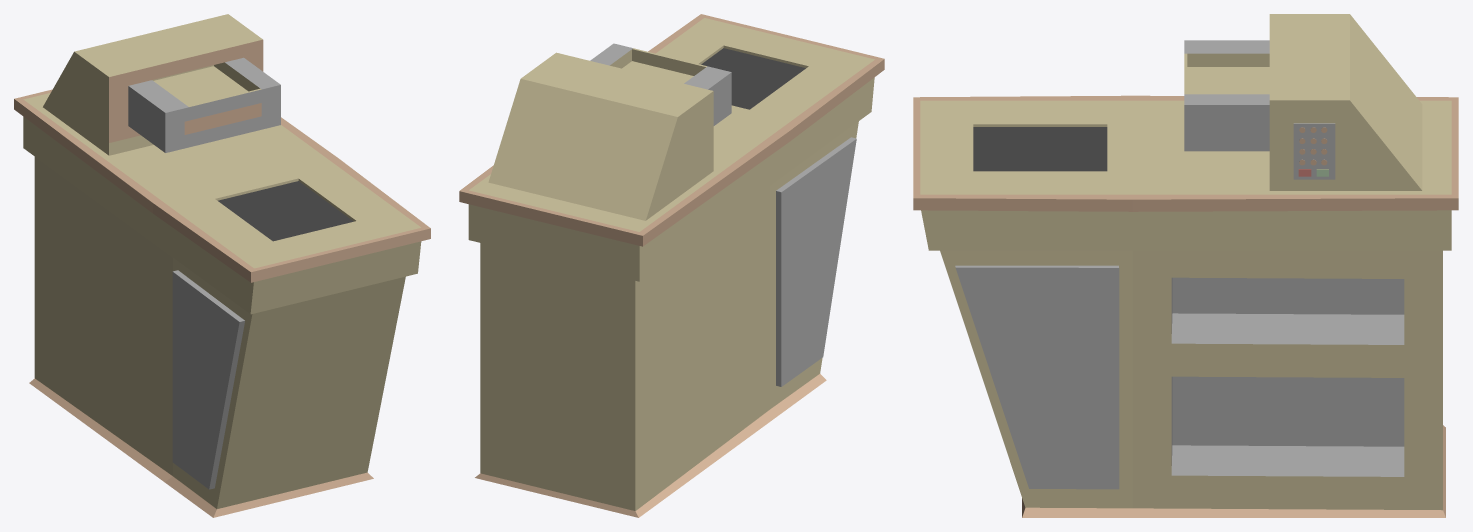
Rendered from Copier.fbx.
3 renders of one model, left to right at view 1: azimuth 30°, elevation 25°; view 2: azimuth 150°, elevation 25°; view 3: azimuth 270°, elevation 25°, orthographic. The views are drawn at different scales.
Parts seen in each view (by area): view 1: Cube, Cube.001; view 2: Cube, Cube.001; view 3: Cube, Cube.001.
Part boxes in pixels (<box>): Cube: <box>14,89,430,517</box>; Cube.001: <box>43,14,280,155</box>; Cube: <box>459,14,884,517</box>; Cube.001: <box>488,43,731,220</box>; Cube: <box>913,95,1458,517</box>; Cube.001: <box>1184,14,1422,190</box>.
Size of the model in its own units: 265 by 494 by 587.
